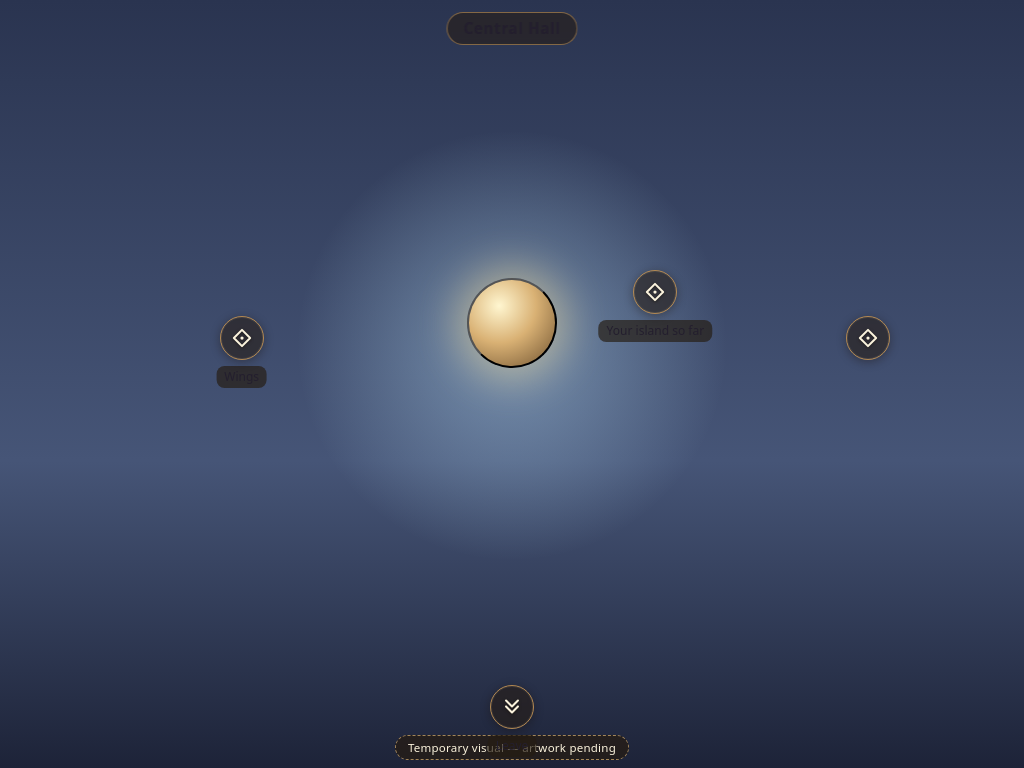
Test case: Museum labels and closed states › uses the Sheet label when it exists, and shows one closed message per closed wing
The width and height of the screenshot is (1024, 768).
What coordinates should you click on to do the following:
click the button with test id "hall-wings"
I would click on:
 (242, 338)
Its box is [220, 316, 264, 360].
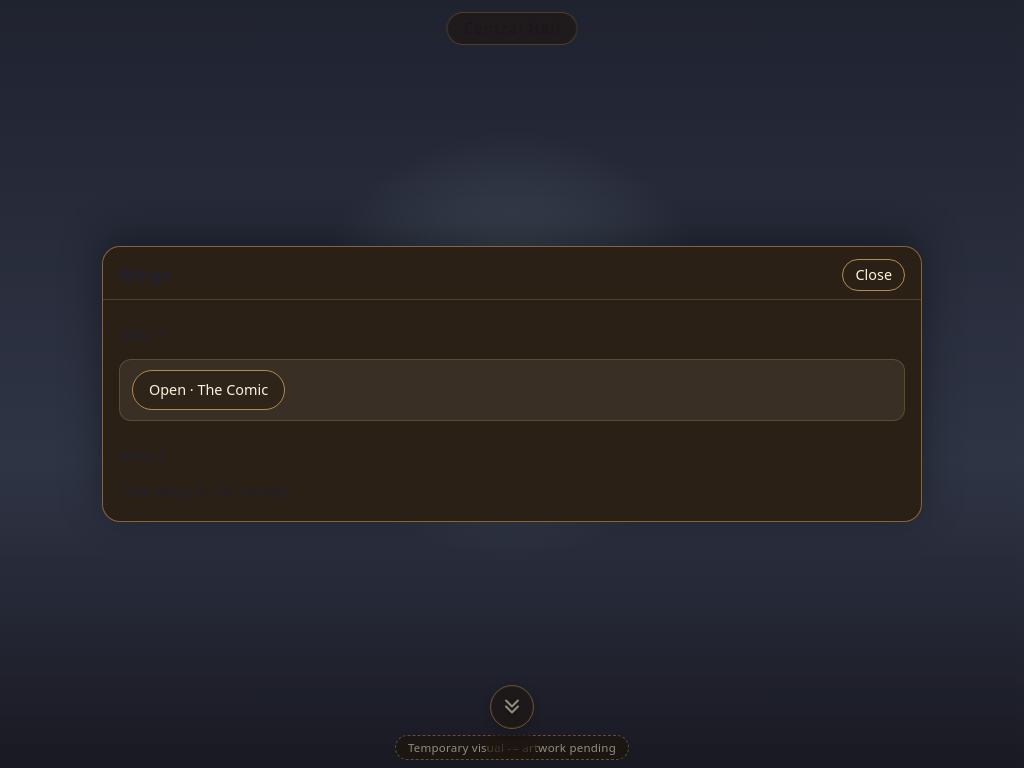
Result: the button with test id "exhibit-open-e1" shows "The Comic" at [132, 370, 285, 410]
Result: the text "This wing is still closed." is shown once at [119, 480, 293, 502]
